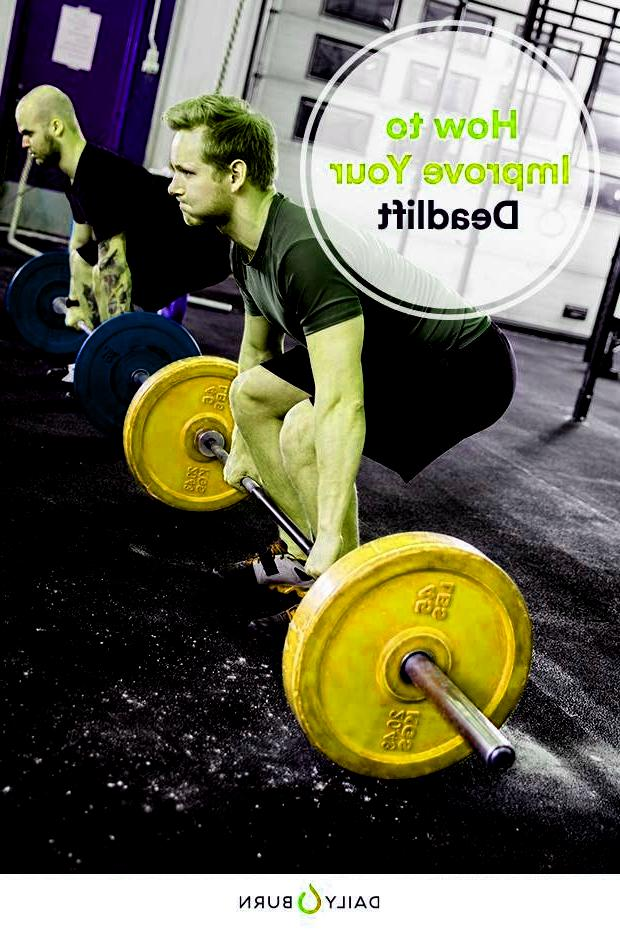Barbell: (478, 741, 517, 778)
